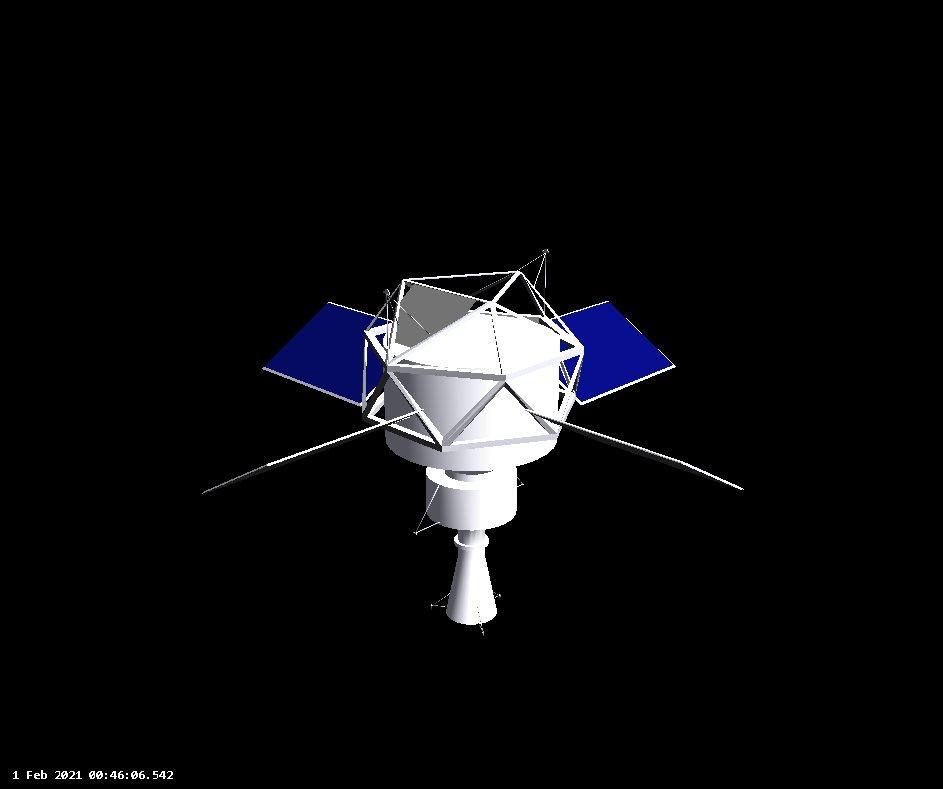antenna: (484, 244, 557, 307)
body: (363, 266, 585, 525)
solar: (196, 402, 426, 500), (523, 407, 751, 494), (538, 295, 680, 410), (264, 298, 397, 408)
thruster: (440, 530, 499, 627)
